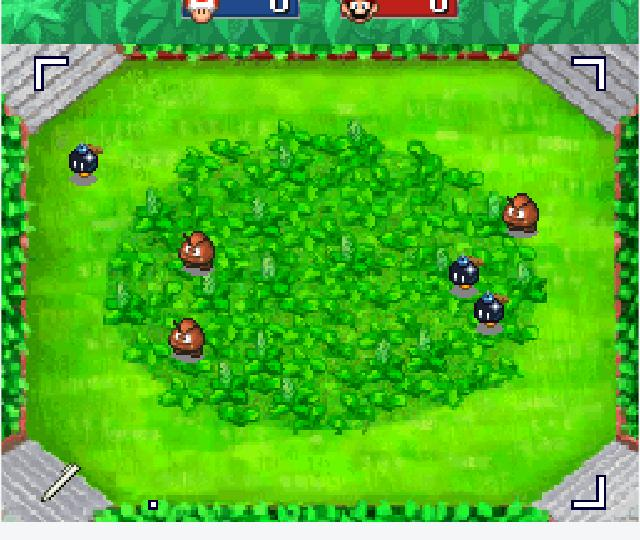bomb: (472, 290, 512, 335), (68, 141, 105, 184), (446, 252, 485, 292)
goomba: (498, 188, 545, 238), (165, 315, 208, 362), (176, 228, 218, 273)
